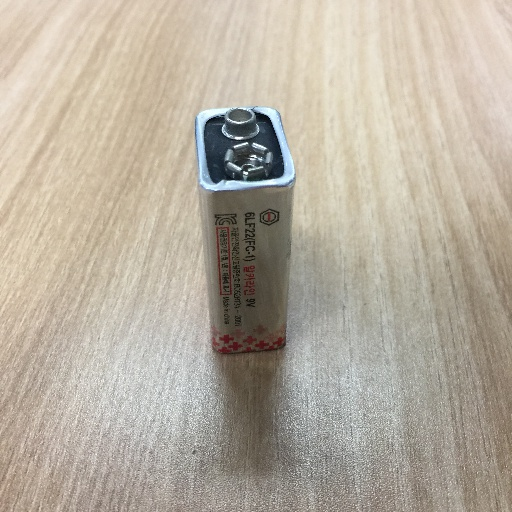Battery_3: (190, 90, 317, 371)
